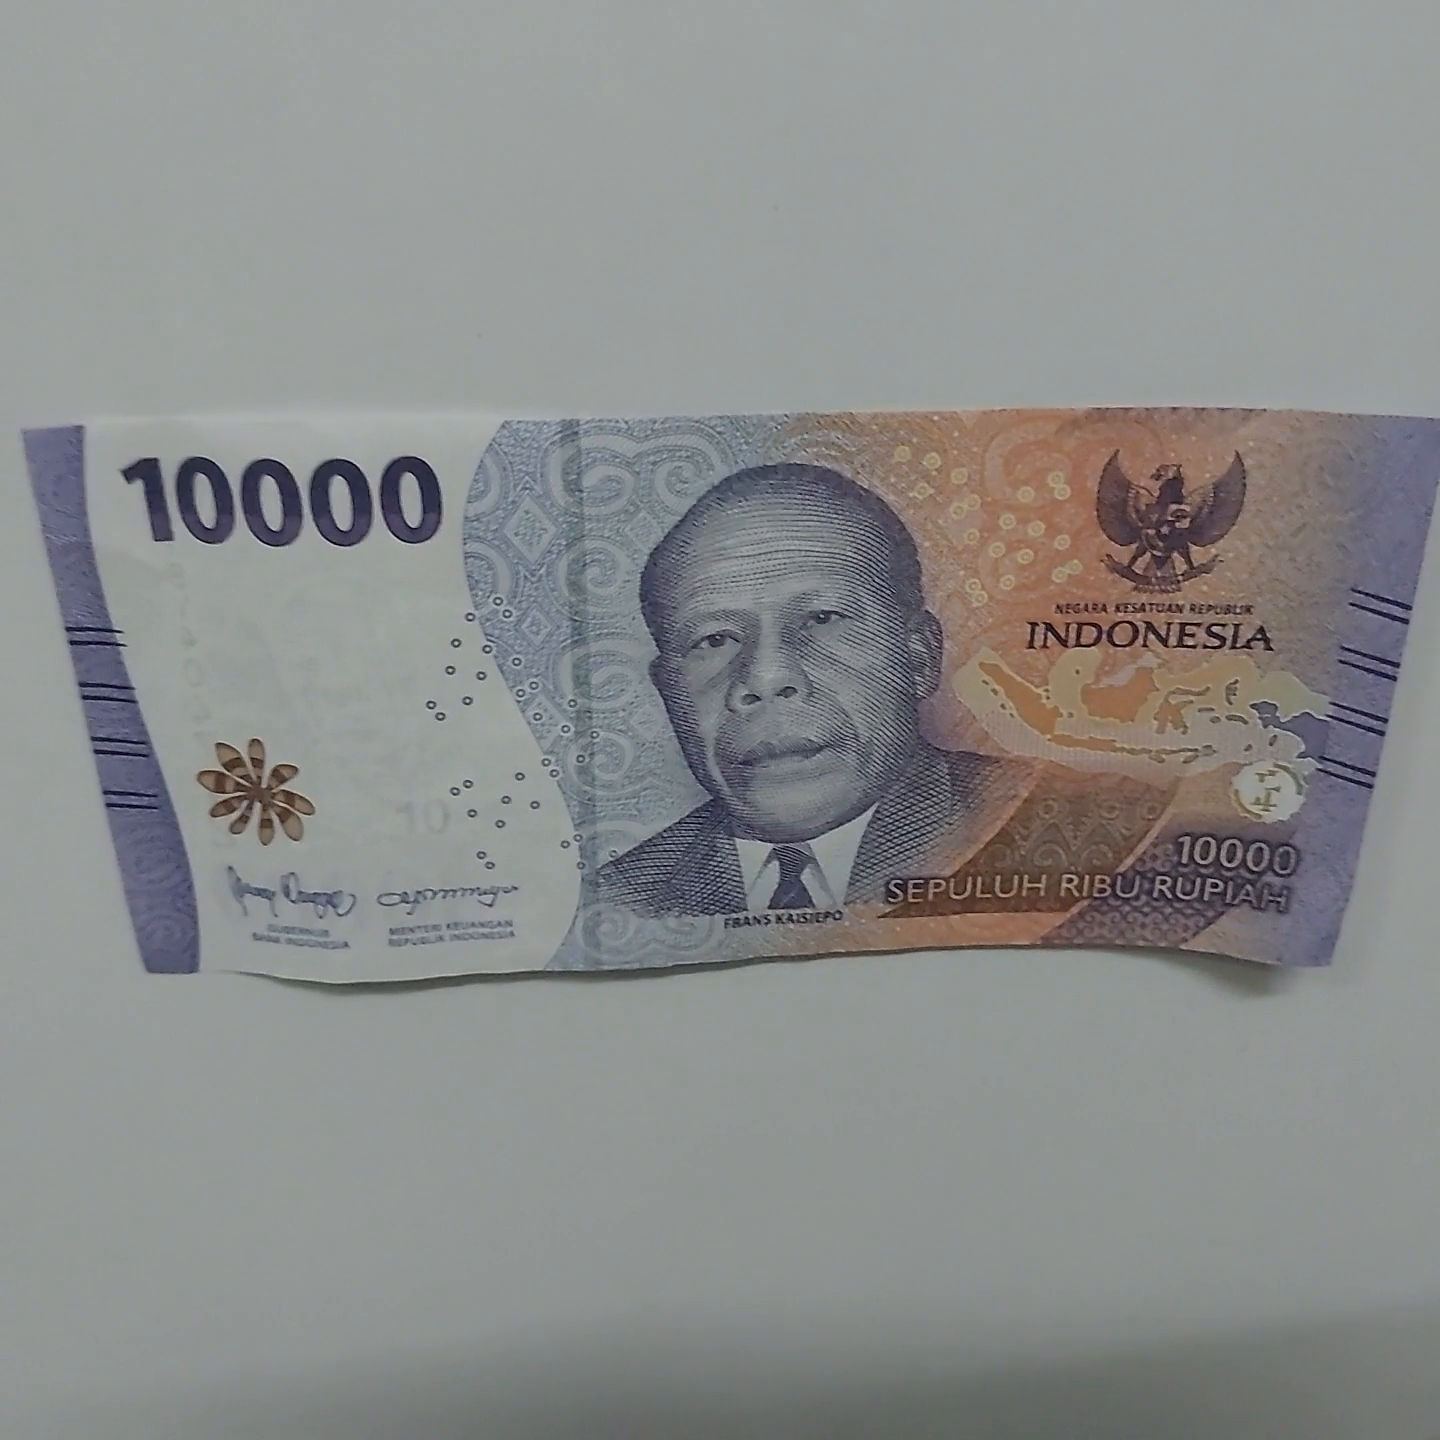10k: (17, 413, 1440, 968)
